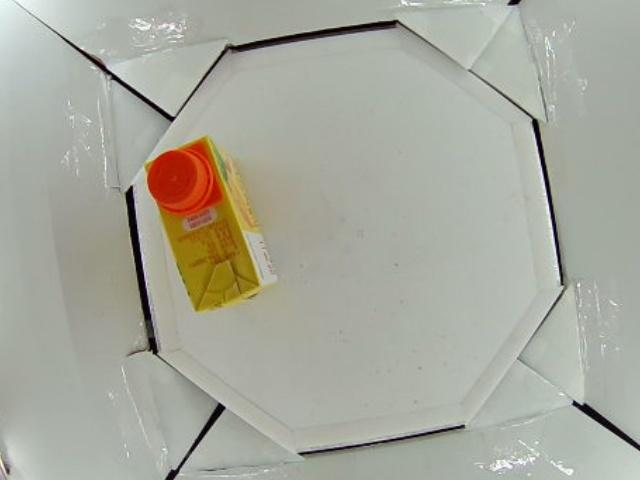Bottle: (142, 135, 278, 318)
